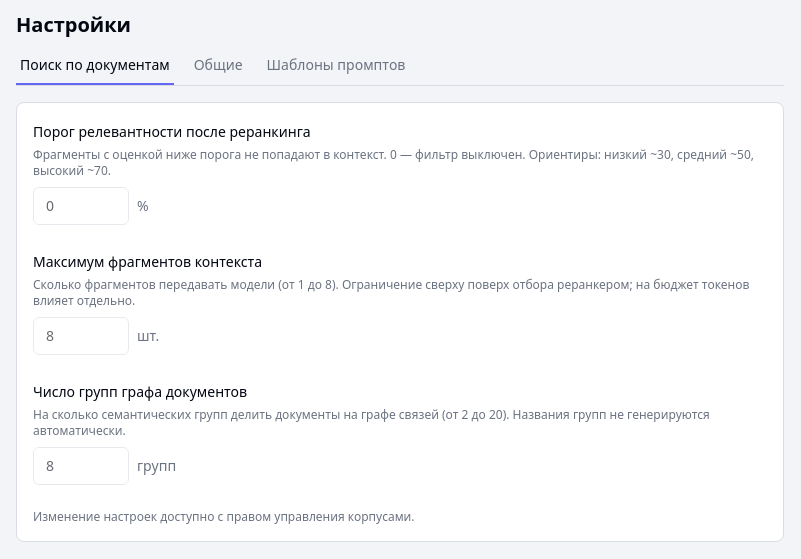
Test: SettingsPage — вкладка «Шаблоны промптов» (T-507) › показывает список шаблонов на вкладке
Click the button with test id "settings-tab-prompts" at (336, 70), box [263,55,409,85]
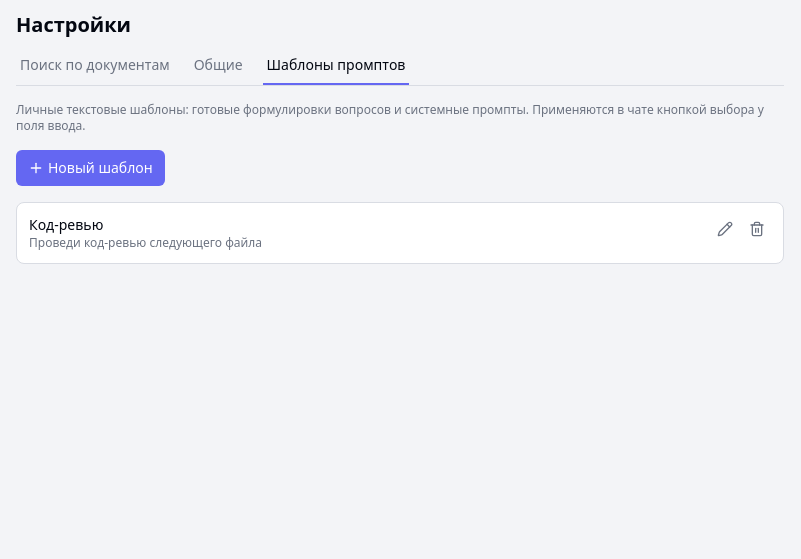
Expected: the number of list items with test id "prompt-template-item" is 1, [16,202,784,264]
Expected: the text "Код-ревью" is shown, [29,215,103,234]
